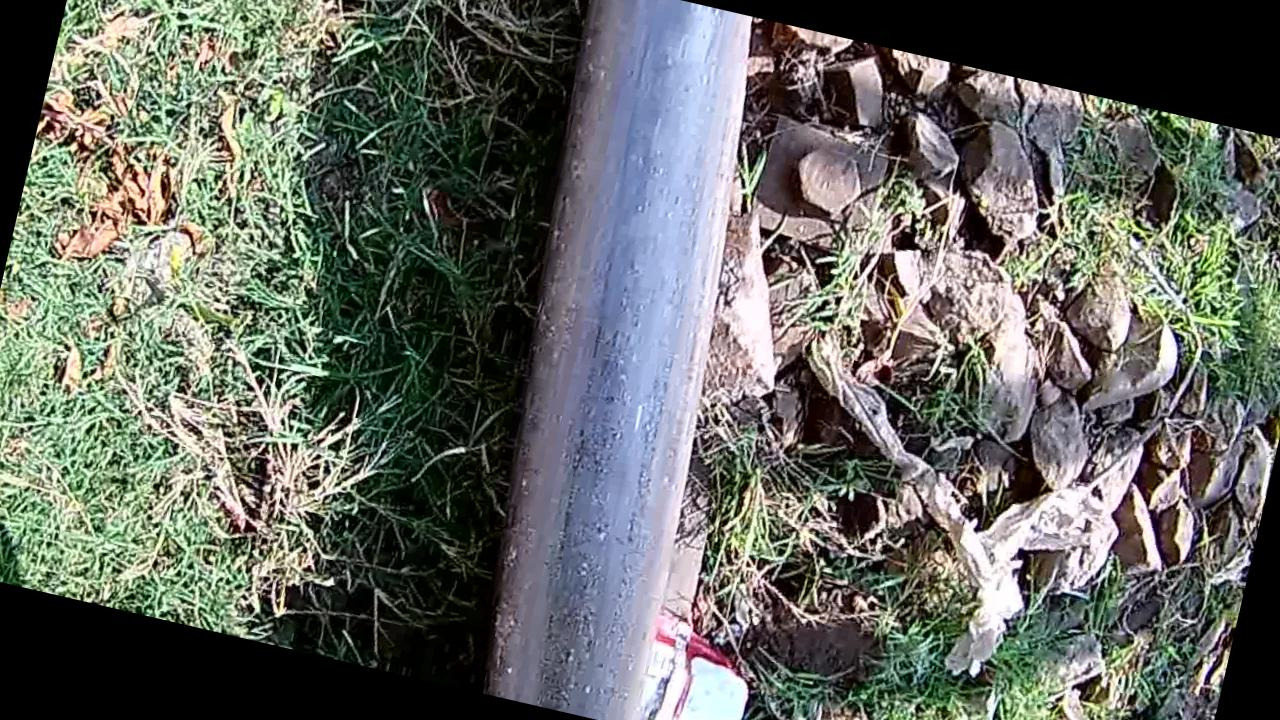bolt_missing: (446, 0, 774, 720)
